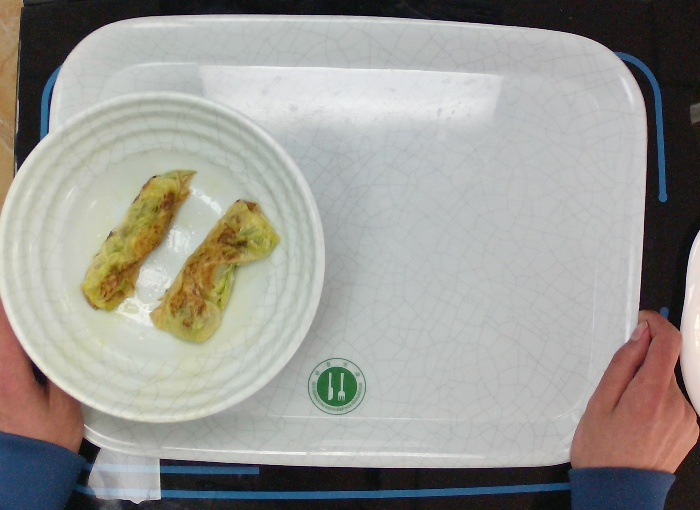JYsf-Da_Tang_Wan: (1, 94, 330, 420)
